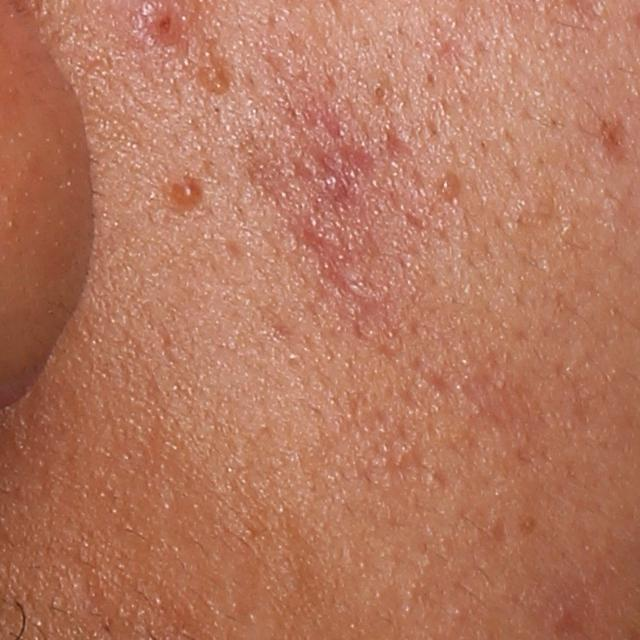atrophic_scar: (296, 218, 386, 323), (381, 120, 413, 163), (402, 206, 432, 237)
comedo: (367, 83, 385, 106), (453, 607, 465, 623)
